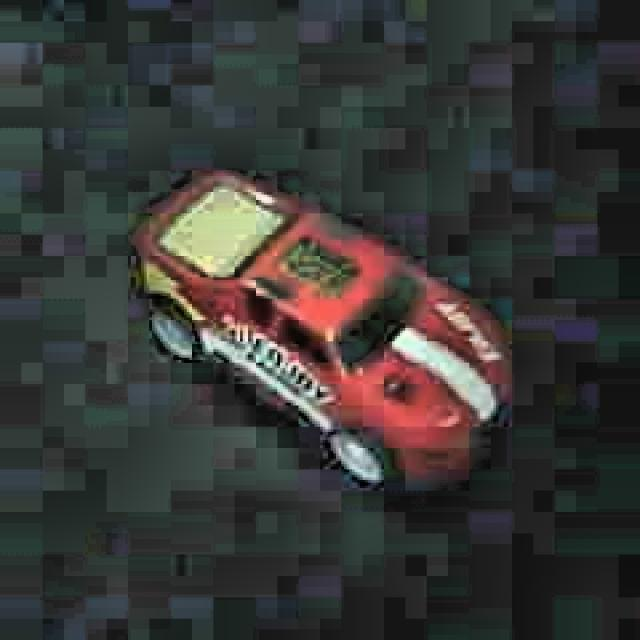car: (135, 160, 514, 495)
